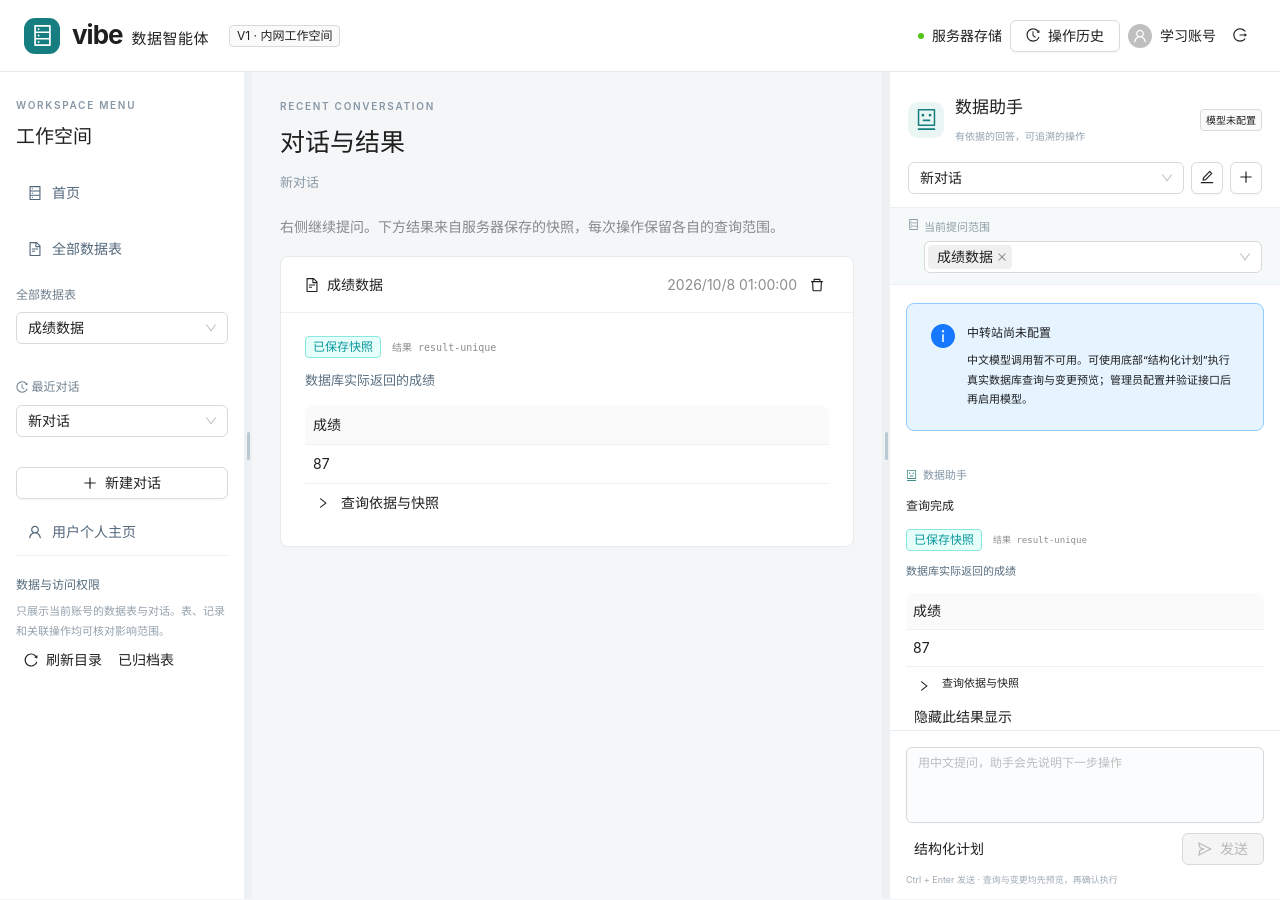
Test case: 工作台 › 首页只加载目录，对话页与助手使用同一快照，切表保留助手结果
Later steps or results of the test are not shown.
Expected: the text "查询完成" is shown, [906,498,954,512]
Expected: the text "中转站尚未配置" is shown, [967,325,1051,340]
Press the mouse on the dropdown labelled "全部数据表" at (113, 328), box [28,313,198,343]
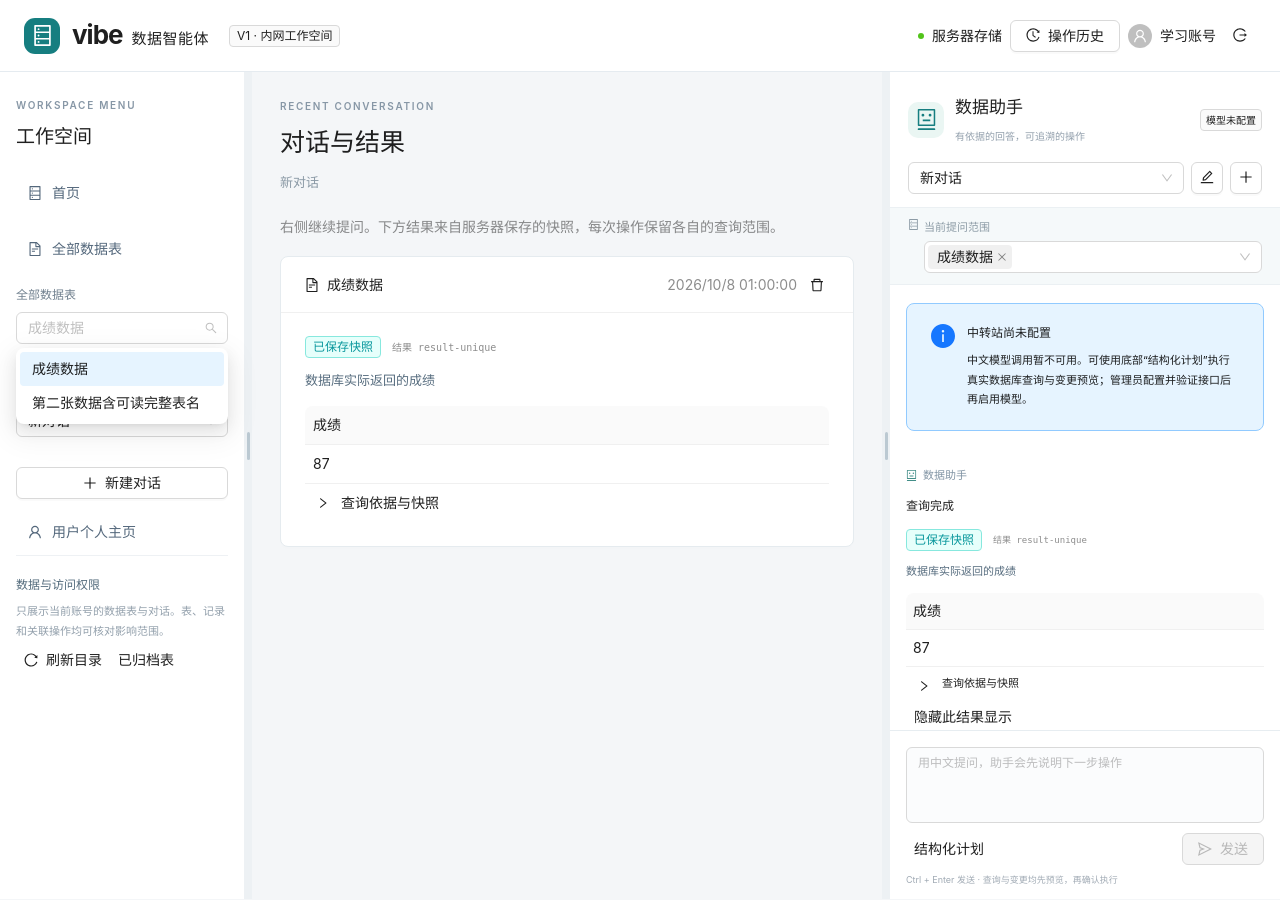
Click the text "第二张数据含可读完整表名" at (116, 402), box [32,394,200,411]
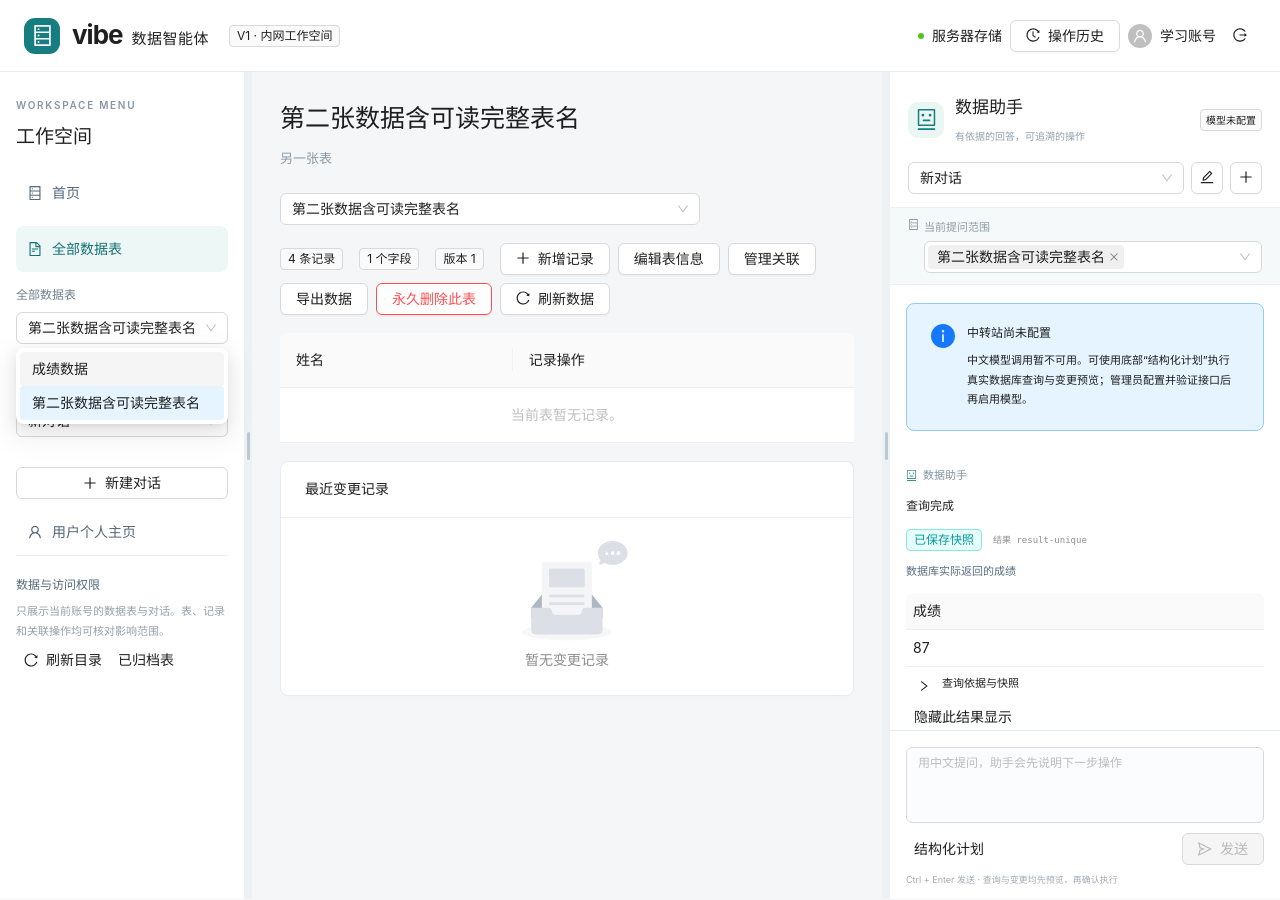
Now the heading "第二张数据含可读完整表名" is shown, box [280,99,580,138]
Press ArrowRight in the element named "数据目录宽度", box [244,72,252,899]
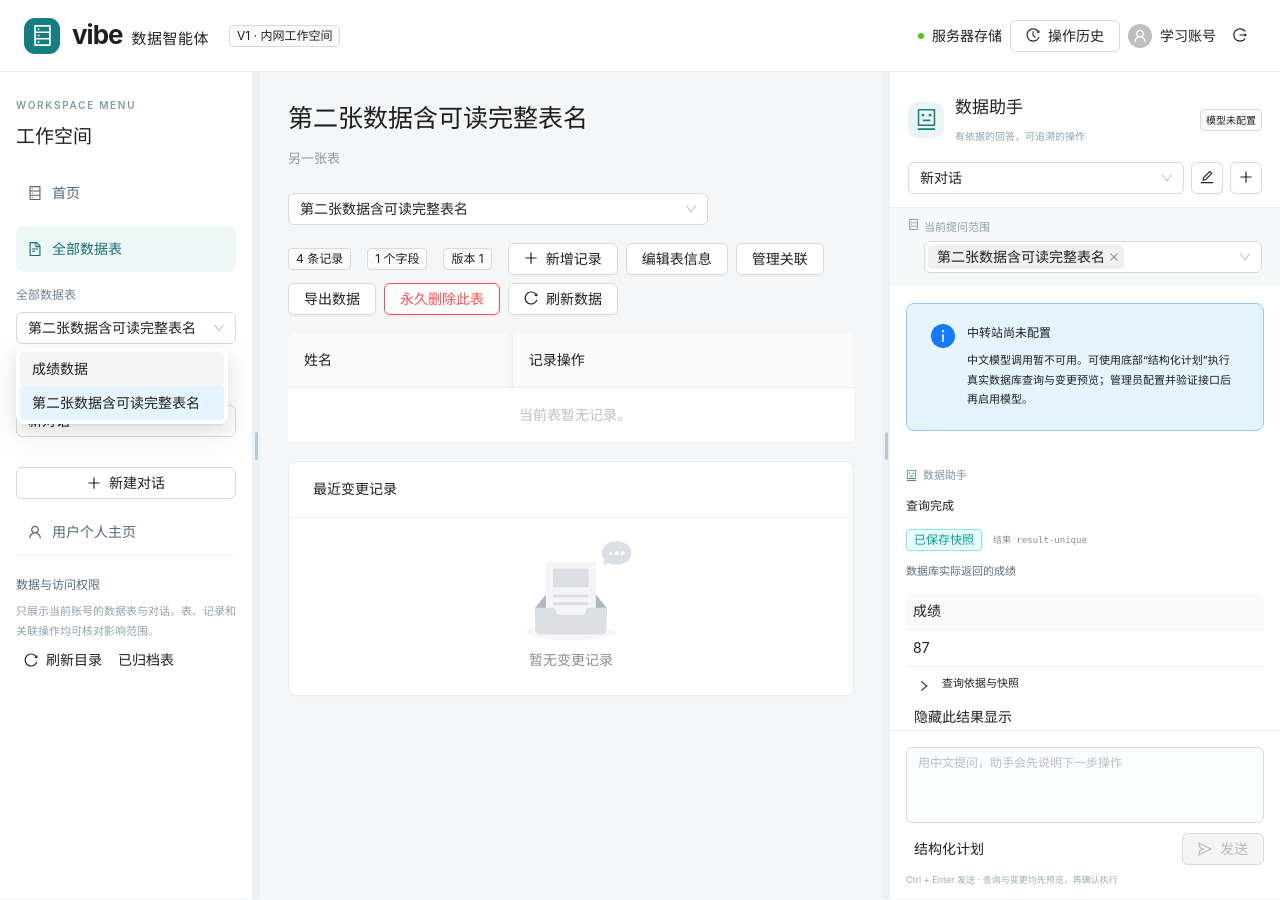
Now the element named "数据目录宽度" has attribute aria-valuenow="252"
Double-click the element named "数据目录宽度" at (256, 486), box [252,72,260,899]
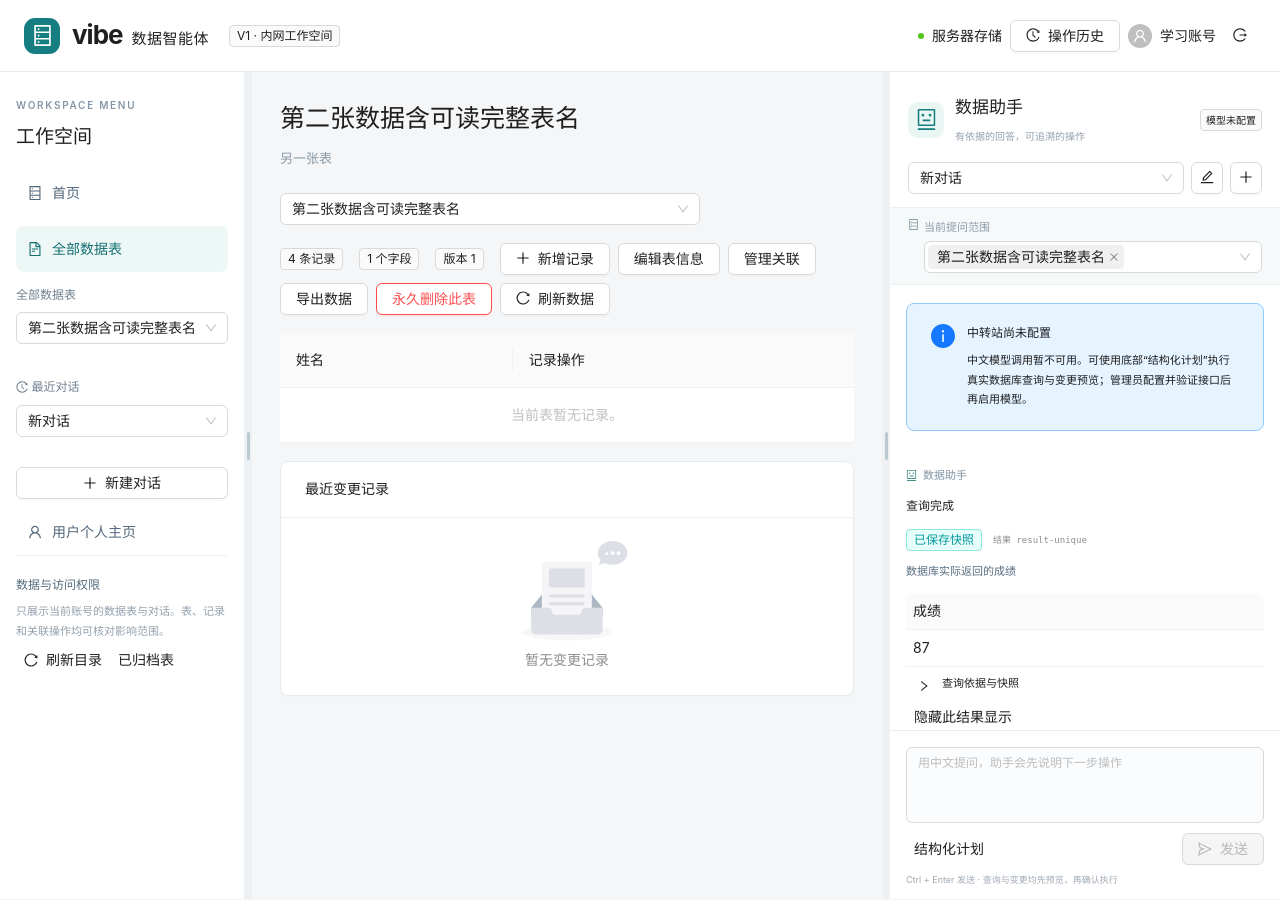
Now the element named "数据目录宽度" has attribute aria-valuenow="244", box [244,72,252,899]
